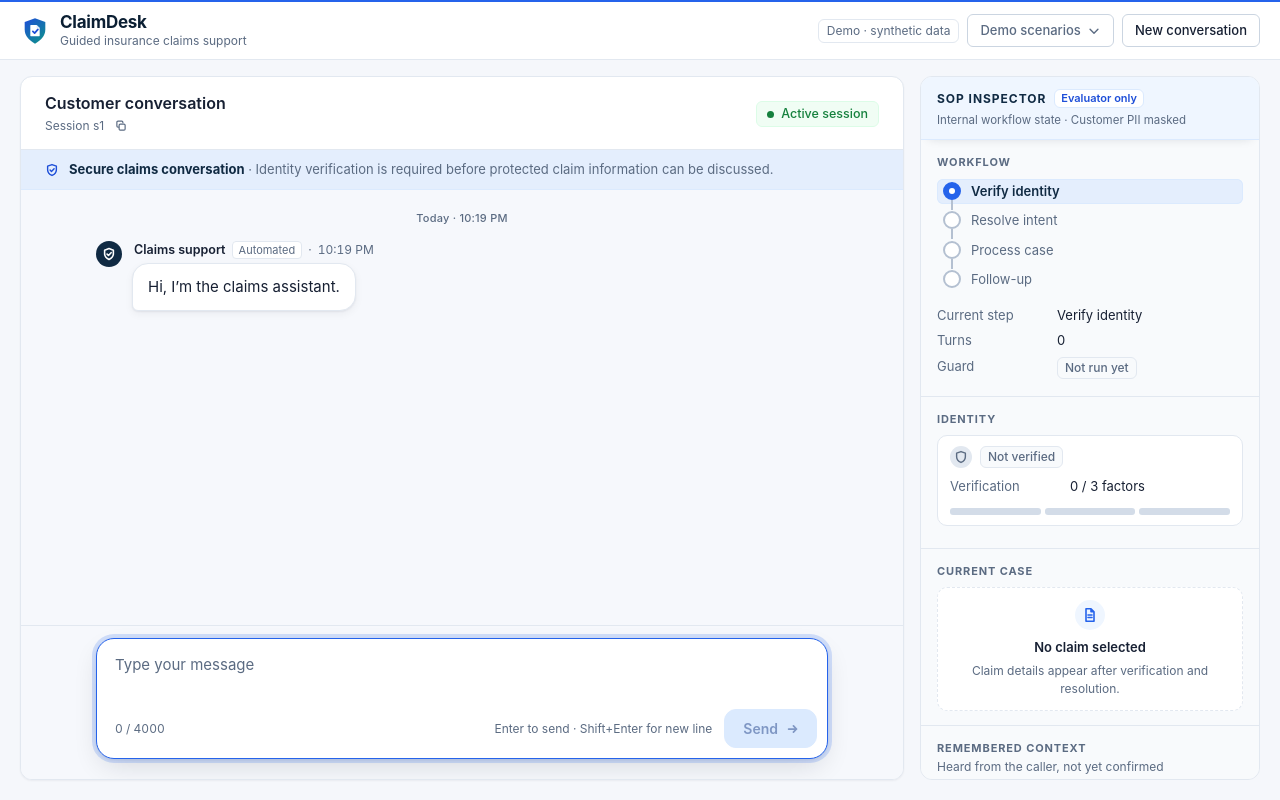
the Demo scenarios menu › is closed until asked for, then lists the prepared scenarios with their descriptions
Expected: the text "Hi, I’m the claims assistant." is shown, x1=148 y1=275 x2=340 y2=299
Click the button "Demo scenarios" at (1041, 31), box x1=967 y1=14 x2=1114 y2=47
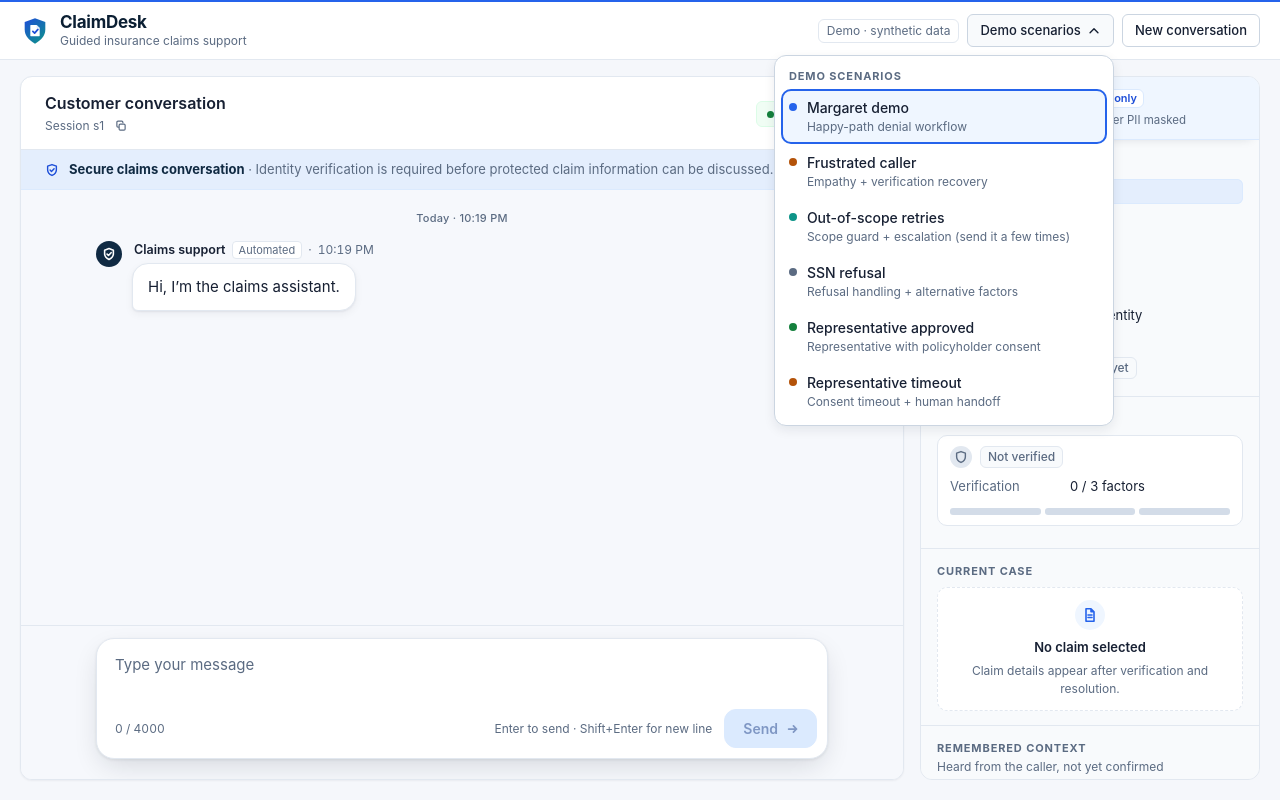
Now the menu item "Margaret demo Happy-path denial workflow" is shown, box x1=781 y1=89 x2=1107 y2=144
Now the text "Happy-path denial workflow" is shown, box x1=807 y1=118 x2=967 y2=136
Now the menu item "Frustrated caller" is shown, box x1=781 y1=144 x2=1107 y2=199
